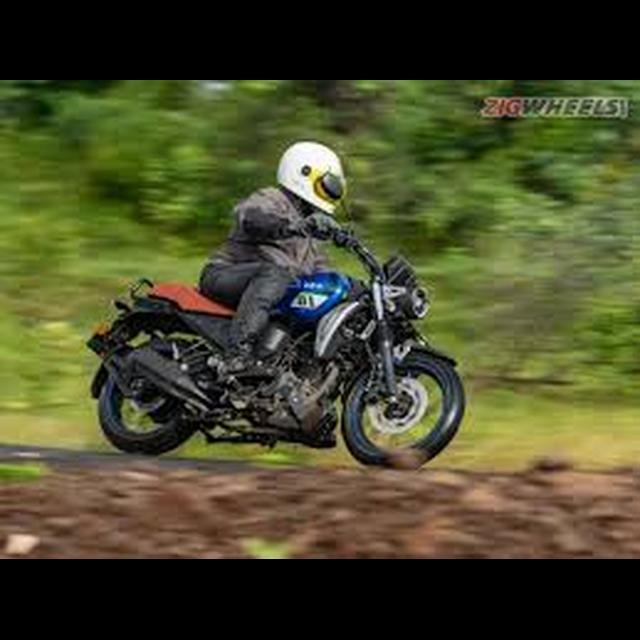motorcycle: (83, 171, 467, 470)
